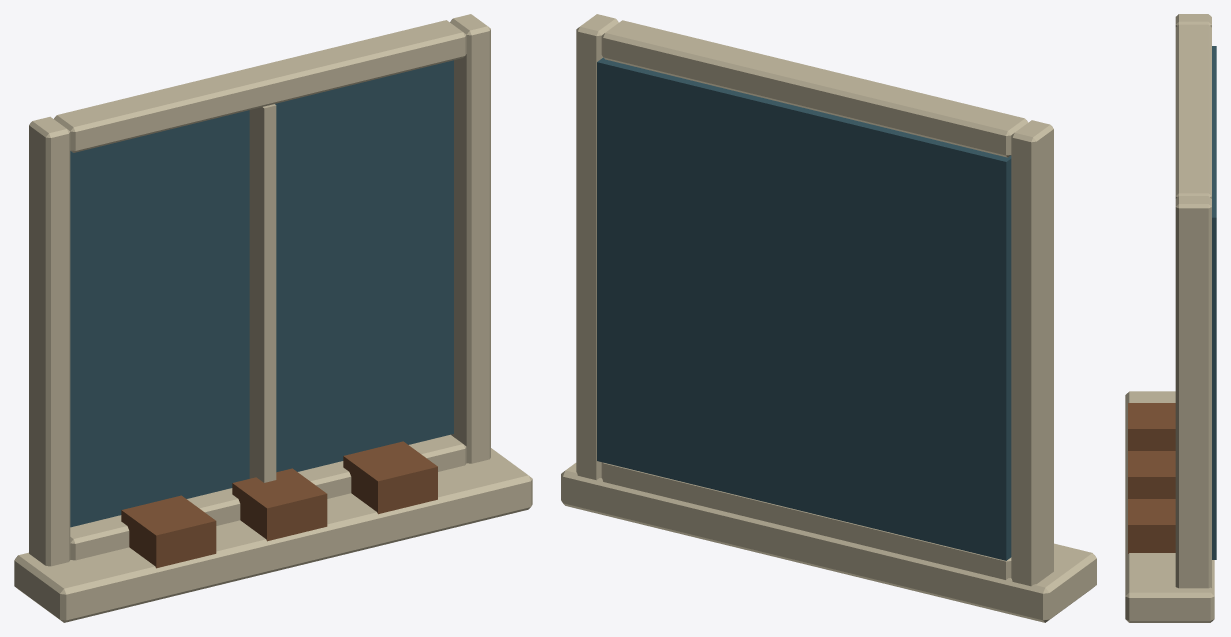
Rendered from window_16.glb.
The picture shows the model from 3 angles, left to right: view 1: azimuth 30°, elevation 25°; view 2: azimuth 150°, elevation 25°; view 3: azimuth 270°, elevation 25°; orthographic projection. The views are drawn at different scales.
Visible parts, largest first — view 1: window_16; view 2: window_16; view 3: window_16.
Boxes of the visible parts, x1,y1,x2,y2 form: window_16: (14, 14, 532, 622); window_16: (561, 14, 1096, 622); window_16: (1125, 14, 1216, 622).
Size of the model in its own units: 1.73 by 1.63 by 0.3275.
